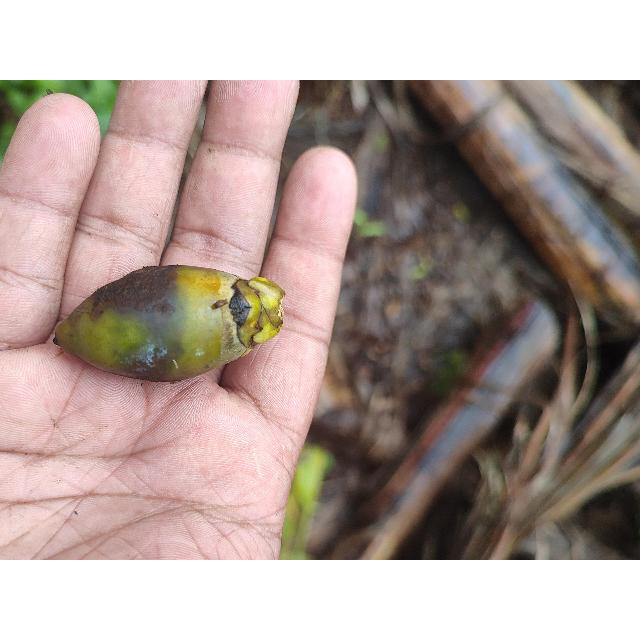damaged: (54, 265, 285, 384)
